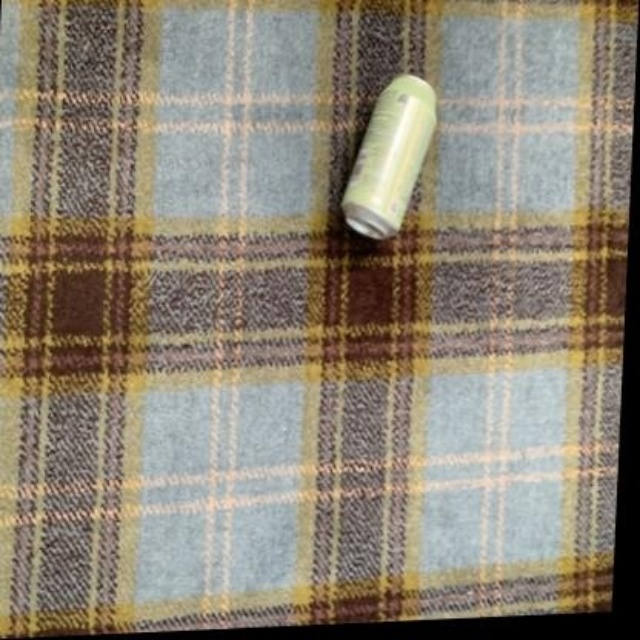trash: (342, 74, 435, 238)
